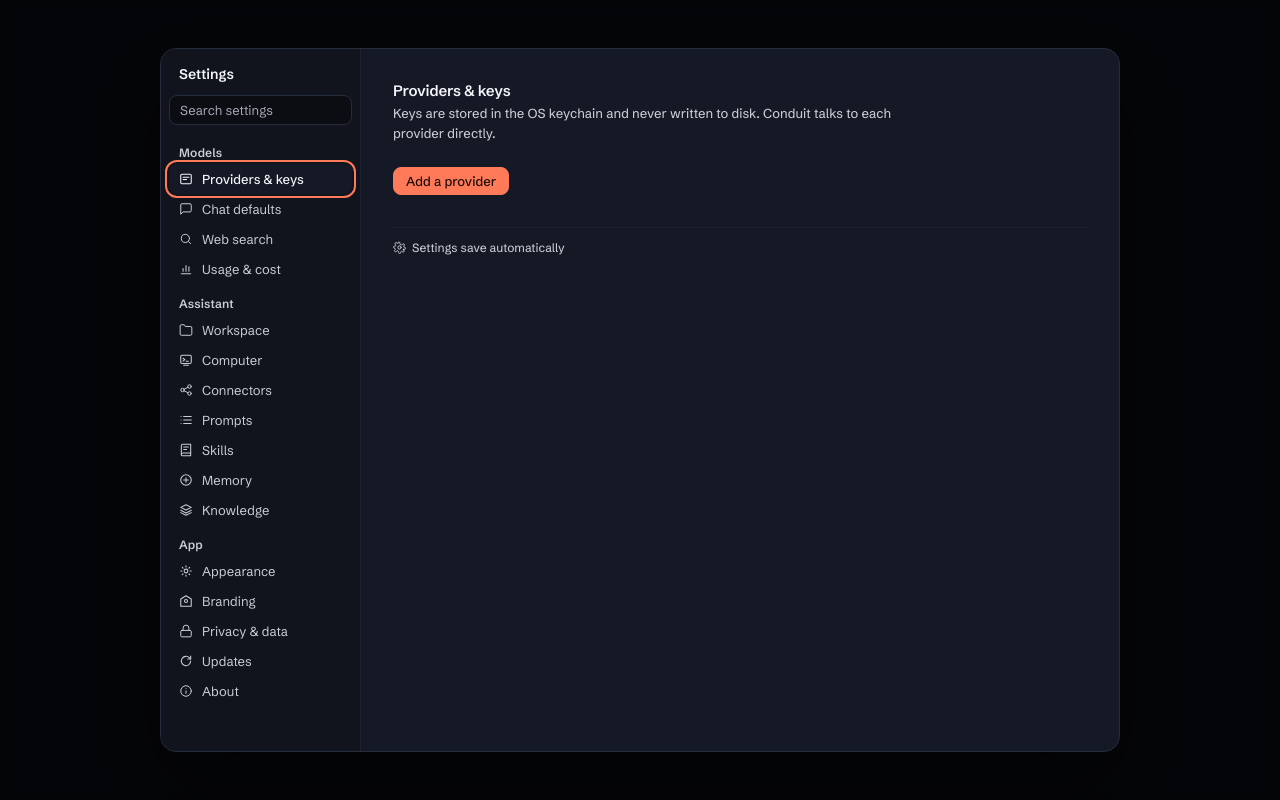
SettingsSheet › search › clears on Escape without closing the sheet
This screenshot has width=1280, height=800.
Type "keychain" into the search field labelled "Search settings" at (260, 110), box [169,95,352,125]
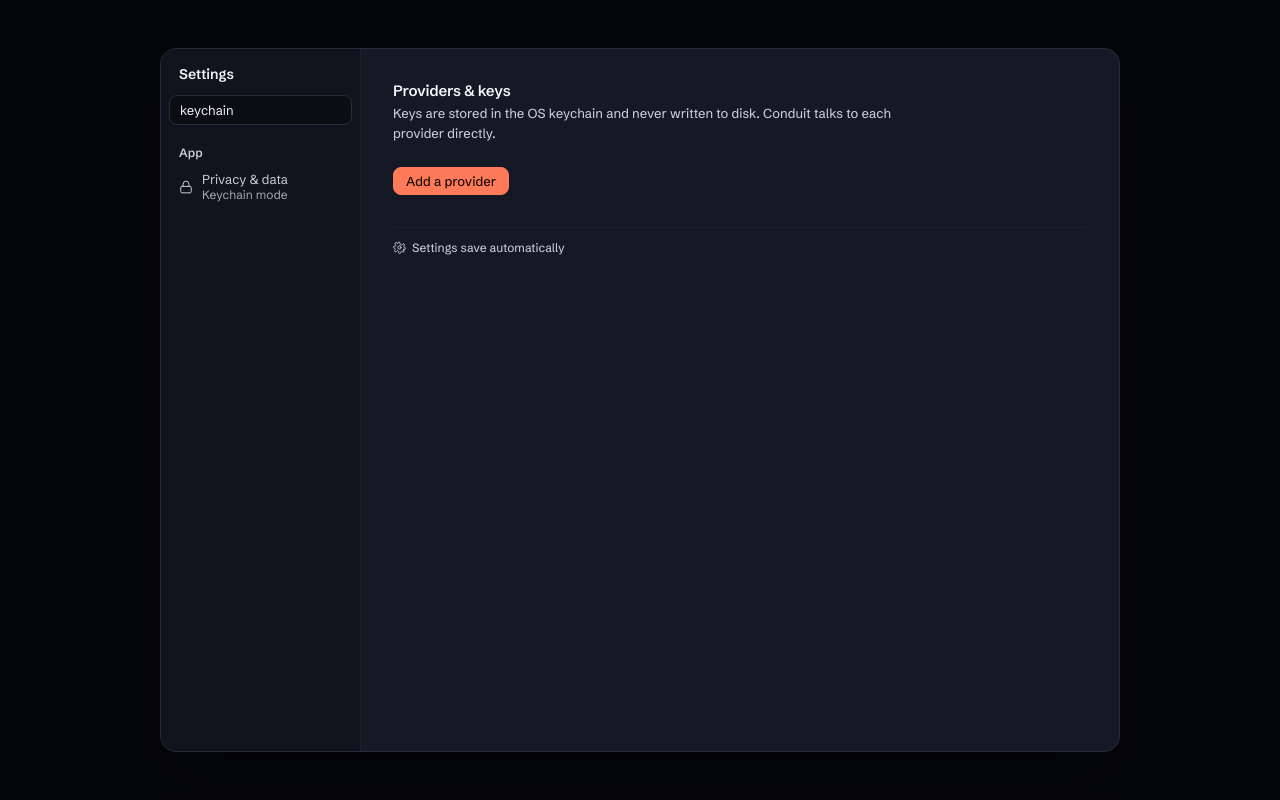
Press Escape in the search field named "Search settings", box [169,95,352,125]
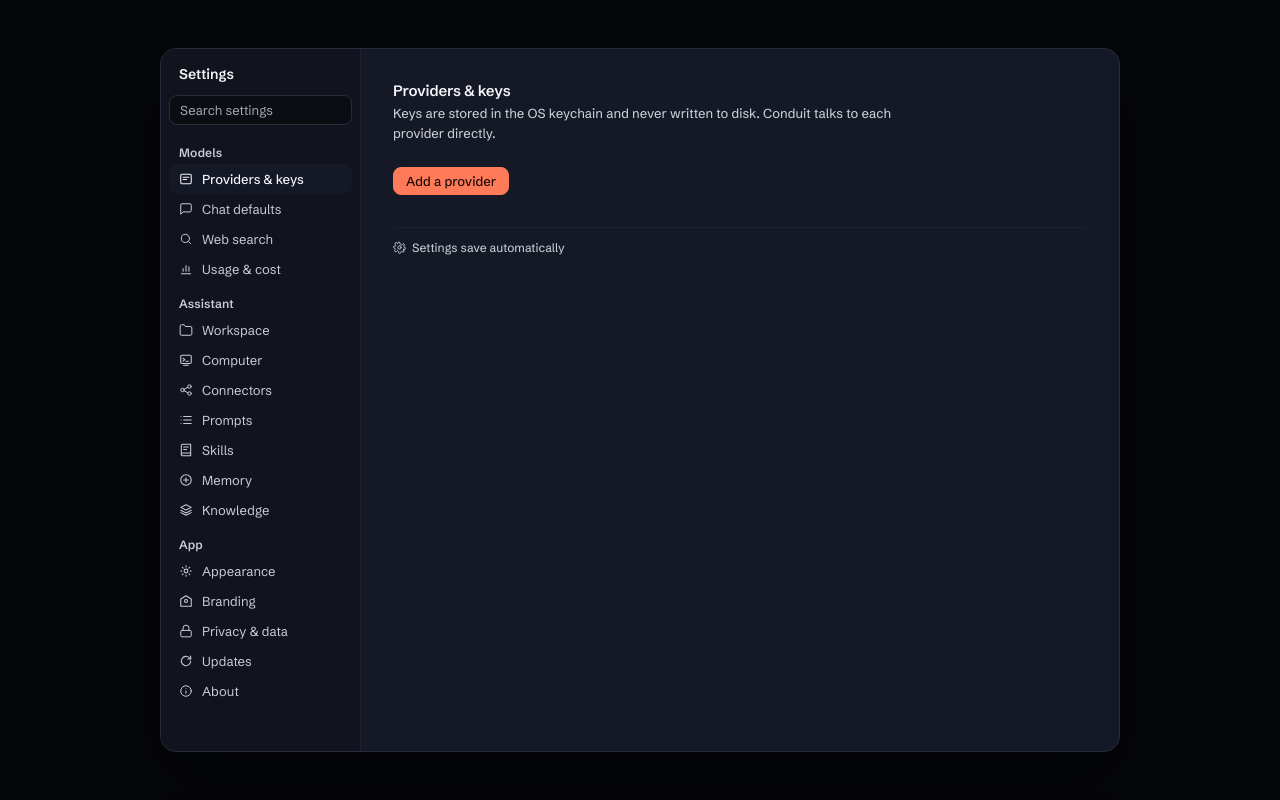
Now the search field labelled "Search settings" is empty, box [169,95,352,125]
Now the text "Chat defaults" is shown, box [202,201,281,217]
